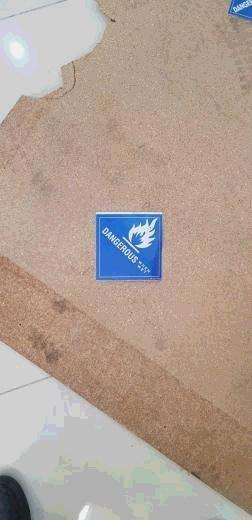dangerous-when-wet: (94, 214, 166, 281)
